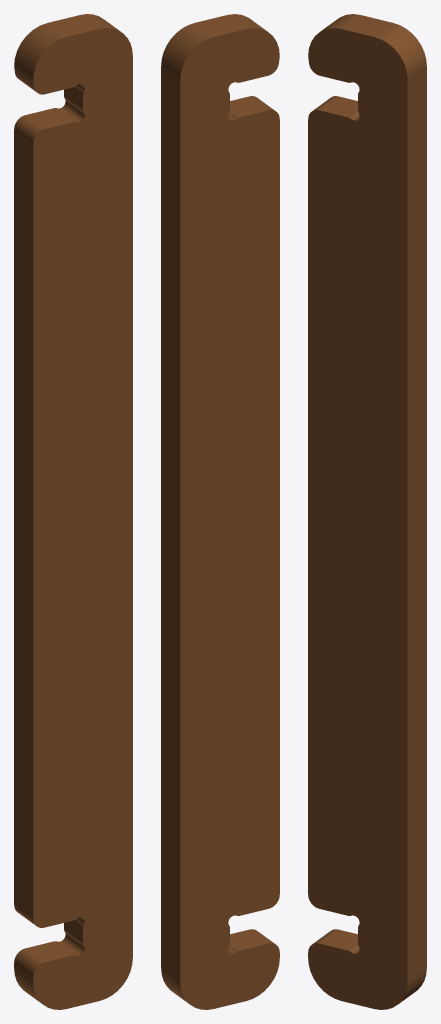
The model's file is Sururu_FBX.fbx.
3 renders of one model, left to right at view 1: azimuth 30°, elevation 25°; view 2: azimuth 210°, elevation 25°; view 3: azimuth 330°, elevation 25°, orthographic.
Parts seen in each view (by area): view 1: Body5; view 2: Body5; view 3: Body5.
Boxes of the visible parts, bbox=[...] form: Body5: bbox=[14, 14, 132, 1009]; Body5: bbox=[161, 14, 279, 1009]; Body5: bbox=[308, 14, 426, 1009].
Size of the model in its own units: 45 by 420 by 15.
